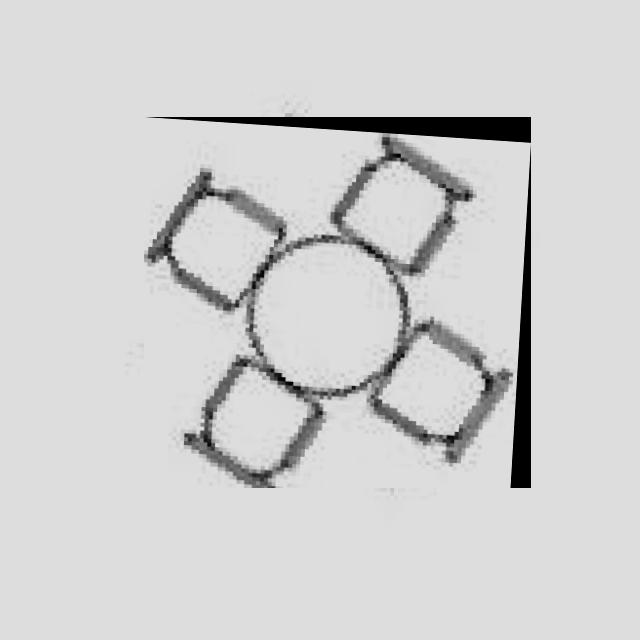table: (144, 117, 531, 488)
